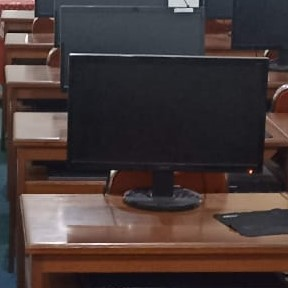monitor: (66, 53, 269, 175), (230, 0, 287, 50)
